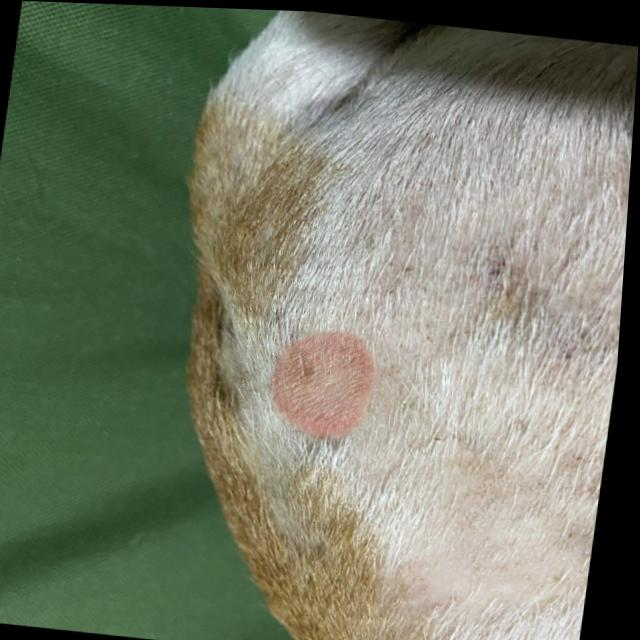ringworm: (236, 303, 404, 459)
